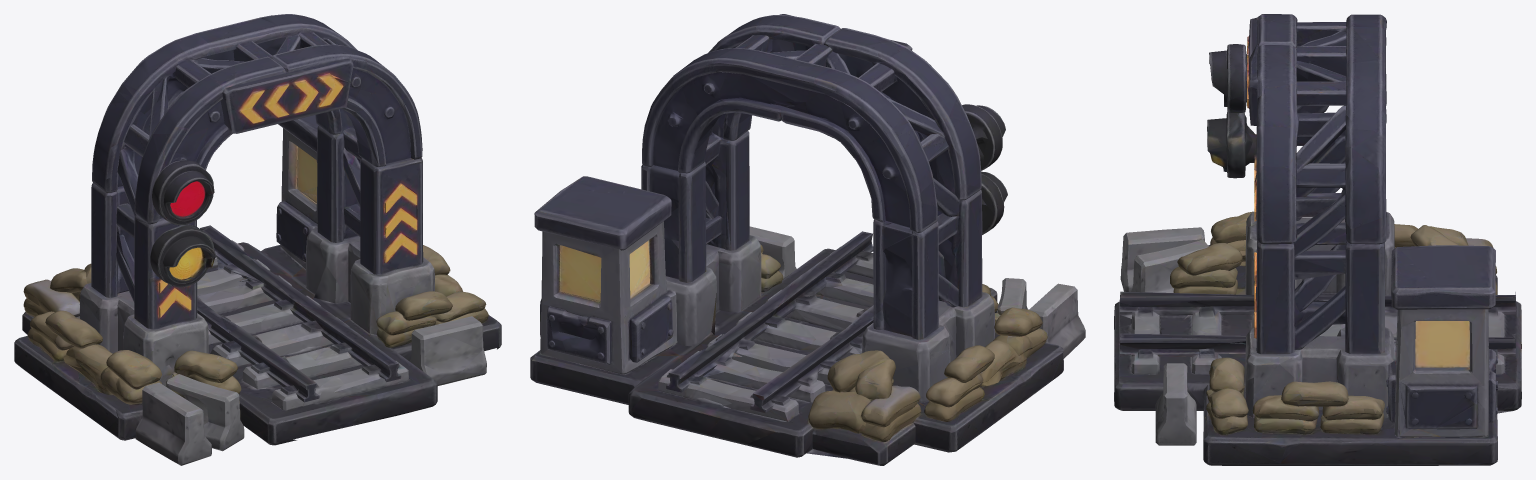
The model's file is signal-gate.glb.
The picture shows the model from 3 angles, left to right: view 1: azimuth 30°, elevation 25°; view 2: azimuth 150°, elevation 25°; view 3: azimuth 270°, elevation 25°; orthographic projection. The views are drawn at different scales.
Visible parts, largest first — view 1: output_unwrapped; view 2: output_unwrapped; view 3: output_unwrapped.
Part boxes in pixels (left/top/right/bottom): output_unwrapped: left=14, top=14, right=501, bottom=465; output_unwrapped: left=530, top=14, right=1085, bottom=465; output_unwrapped: left=1114, top=14, right=1521, bottom=465.
Bounding box in the file's own units: 1.9 × 1.47 × 1.67.
Materials: 1 (1 with a texture image).
